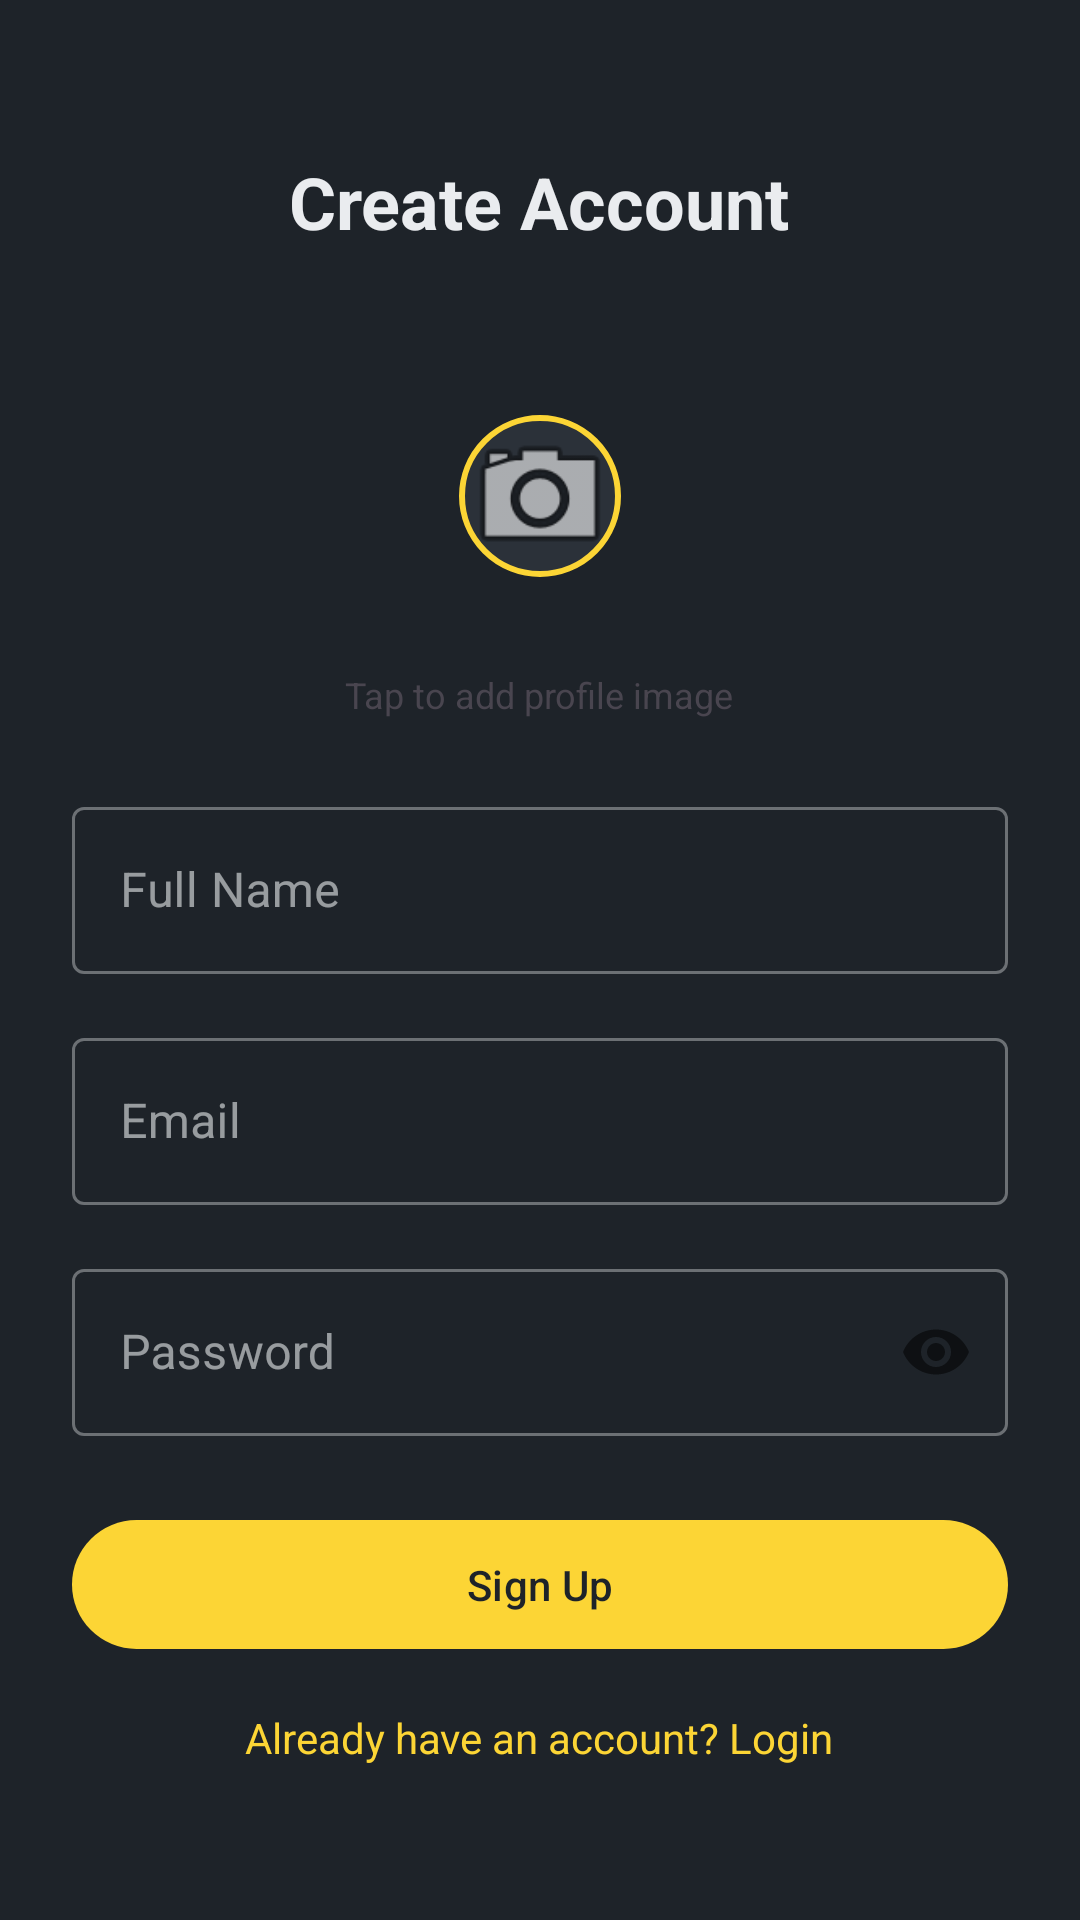

Named icons in this screenshot (1080x1920) and their centers, point (x, y):
camera: point (540, 496)
